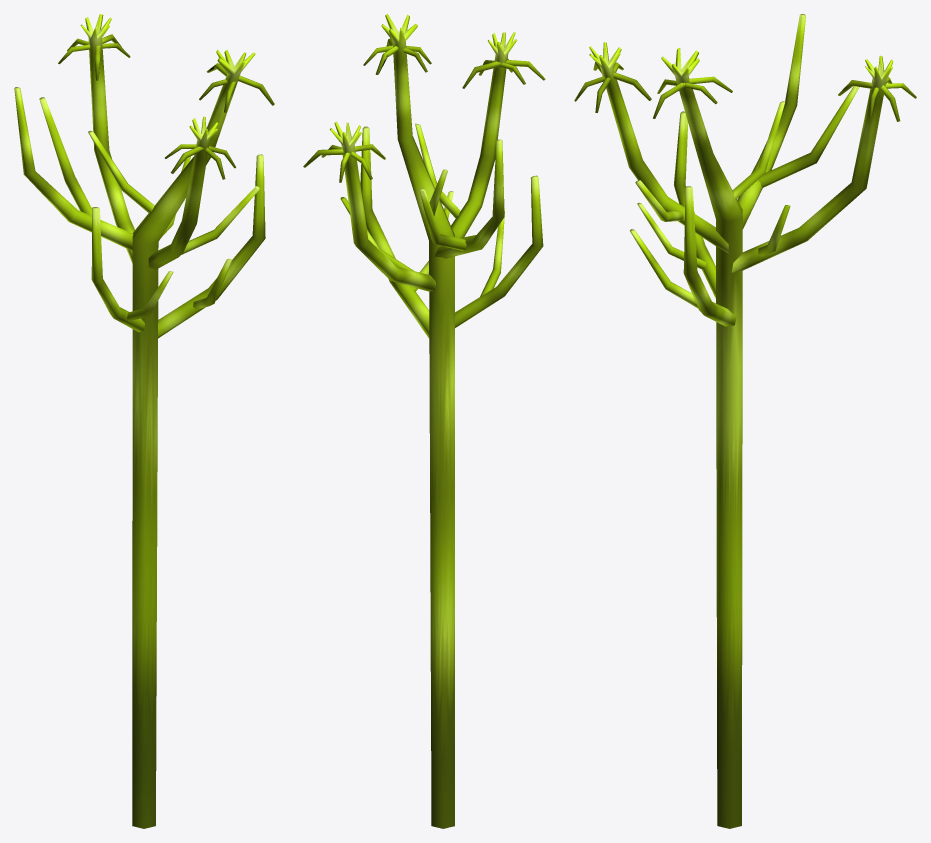
File: Heal_Algae_Long.fbx
3 renders of one model, left to right at view 1: azimuth 30°, elevation 25°; view 2: azimuth 150°, elevation 25°; view 3: azimuth 270°, elevation 25°, orthographic. The views are drawn at different scales.
Visible parts, largest first — view 1: Heal_Algae_Long; view 2: Heal_Algae_Long; view 3: Heal_Algae_Long.
Part boxes in pixels (x1,y1,x2,y2): Heal_Algae_Long: (14,14,274,828); Heal_Algae_Long: (303,14,545,828); Heal_Algae_Long: (574,14,916,828).
Size of the model in its own units: 403 by 1520 by 589.
1 material, 1 textured.
